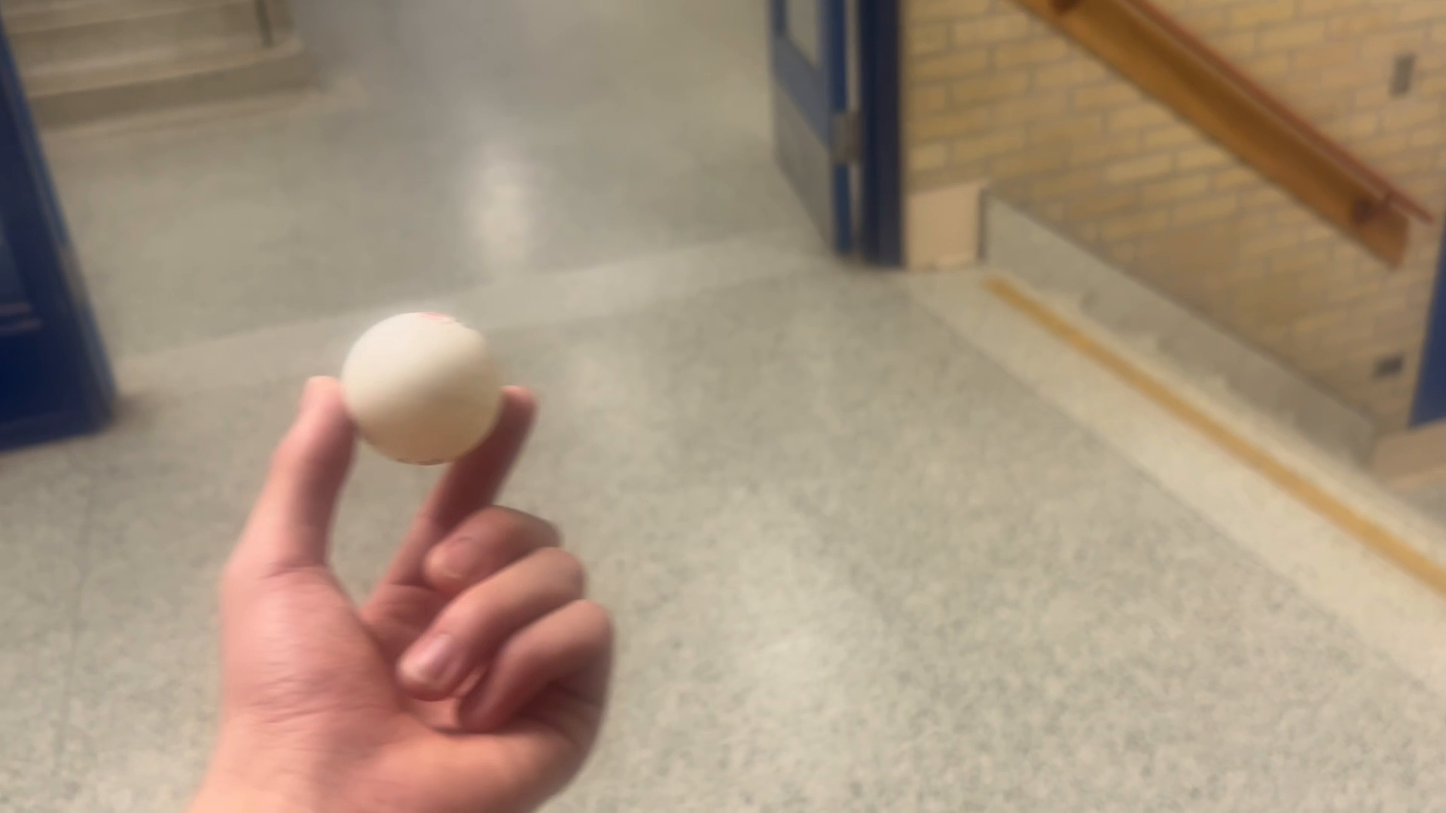Ball: (342, 299, 502, 456)
